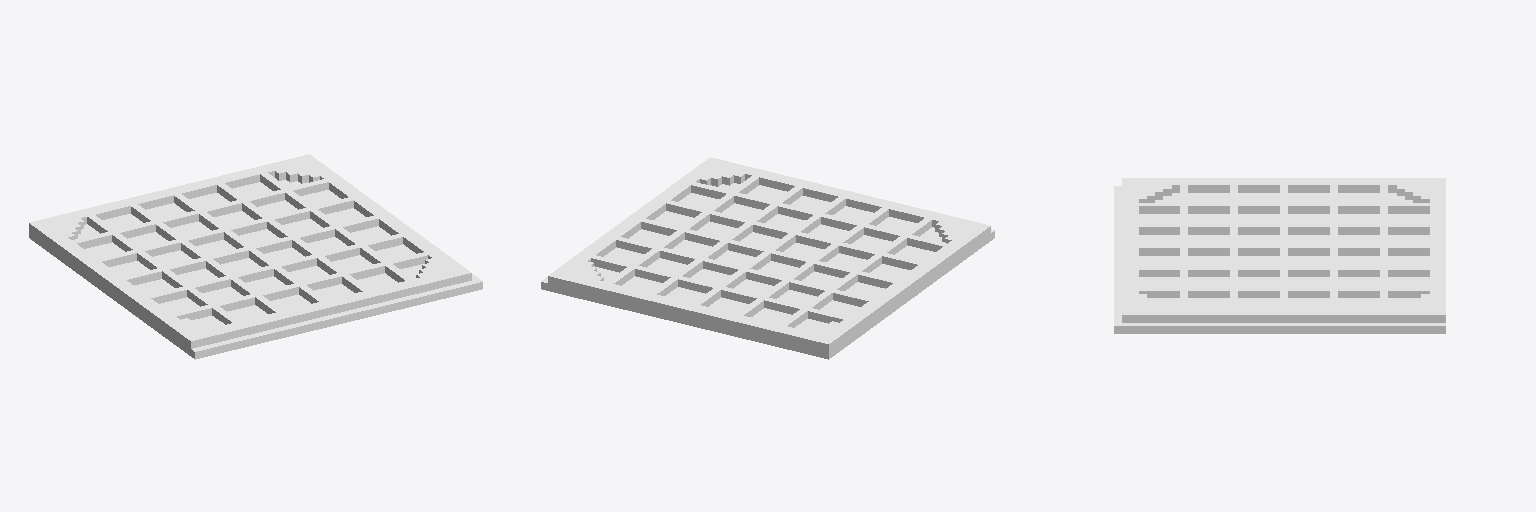
File: Architeture1-1.obj
3 renders of one model, left to right at view 1: azimuth 30°, elevation 25°; view 2: azimuth 150°, elevation 25°; view 3: azimuth 270°, elevation 25°, orthographic.
Parts seen in each view (by area): view 1: object 1; view 2: object 1; view 3: object 1.
Boxes of the visible parts, x1=… form: object 1: x1=29, y1=154, x2=482, y2=359; object 1: x1=541, y1=157, x2=994, y2=359; object 1: x1=1114, y1=178, x2=1445, y2=333.
Size of the model in its own units: 4 by 0.2 by 4.